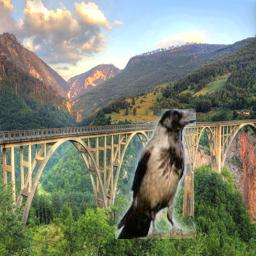Crow: (115, 109, 196, 239)
